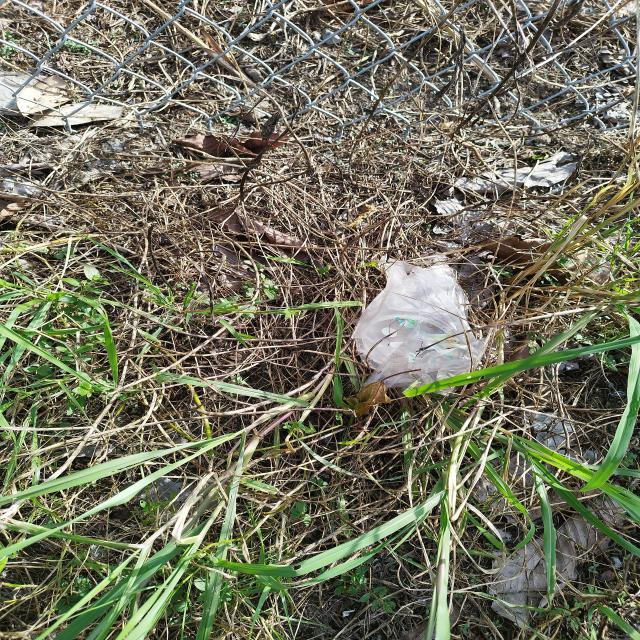trash bag: (350, 262, 488, 396)
